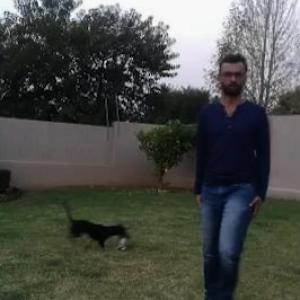follow: (187, 45, 273, 299)
